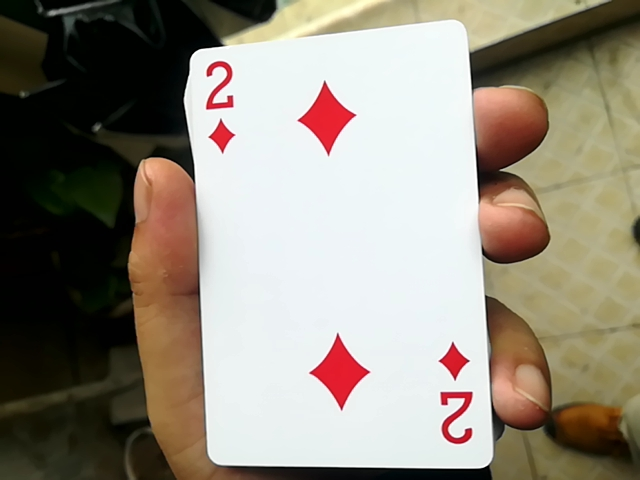fk 2: (172, 11, 493, 467)
